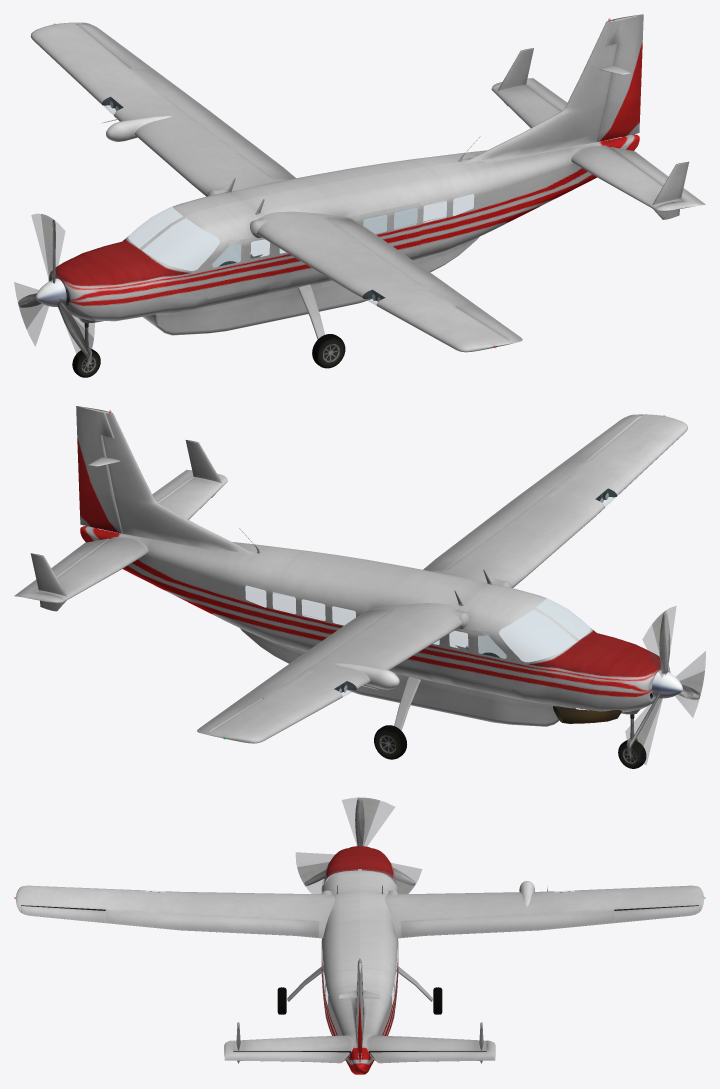
File: caravan.glb
3 renders of one model, top to bottom at view 1: azimuth 30°, elevation 25°; view 2: azimuth 150°, elevation 25°; view 3: azimuth 270°, elevation 25°, orthographic. The views are drawn at different scales.
Size of the model in its own units: 12.6 by 4.58 by 15.85.
5 materials, 5 textured.
